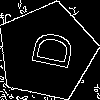D: (21, 27, 75, 72)
